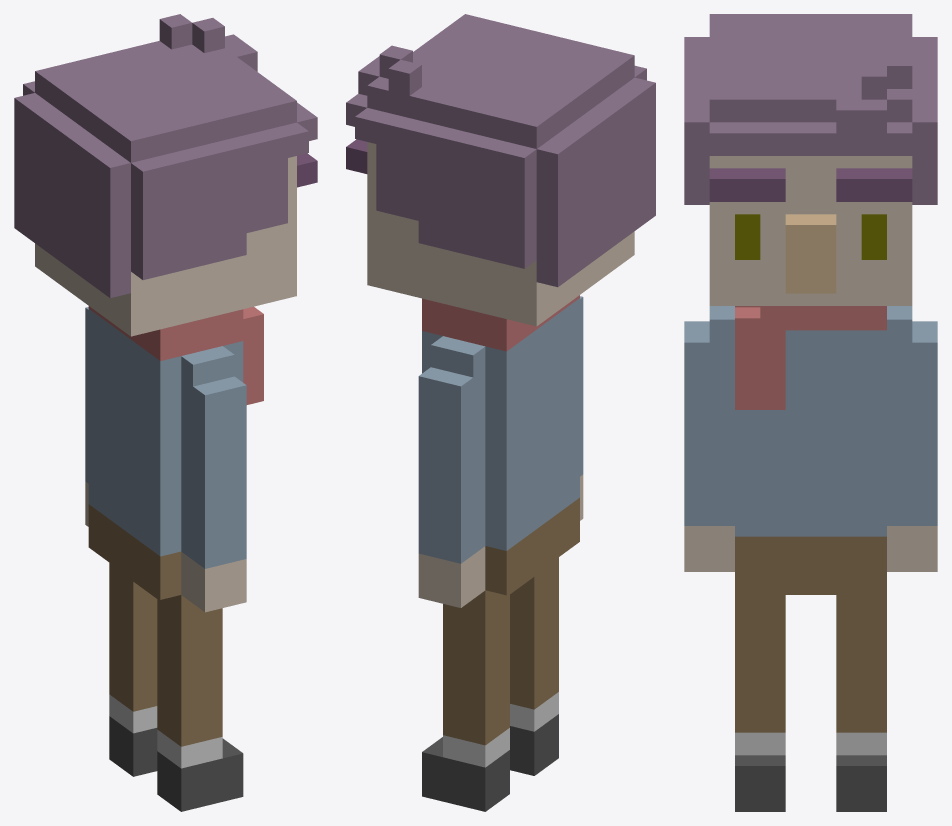
Rendered from Char.gltf.
The picture shows the model from 3 angles, left to right: view 1: azimuth 30°, elevation 25°; view 2: azimuth 150°, elevation 25°; view 3: azimuth 270°, elevation 25°; orthographic projection. The views are drawn at different scales.
Bounding box in the file's own units: 10 × 33 × 10.
